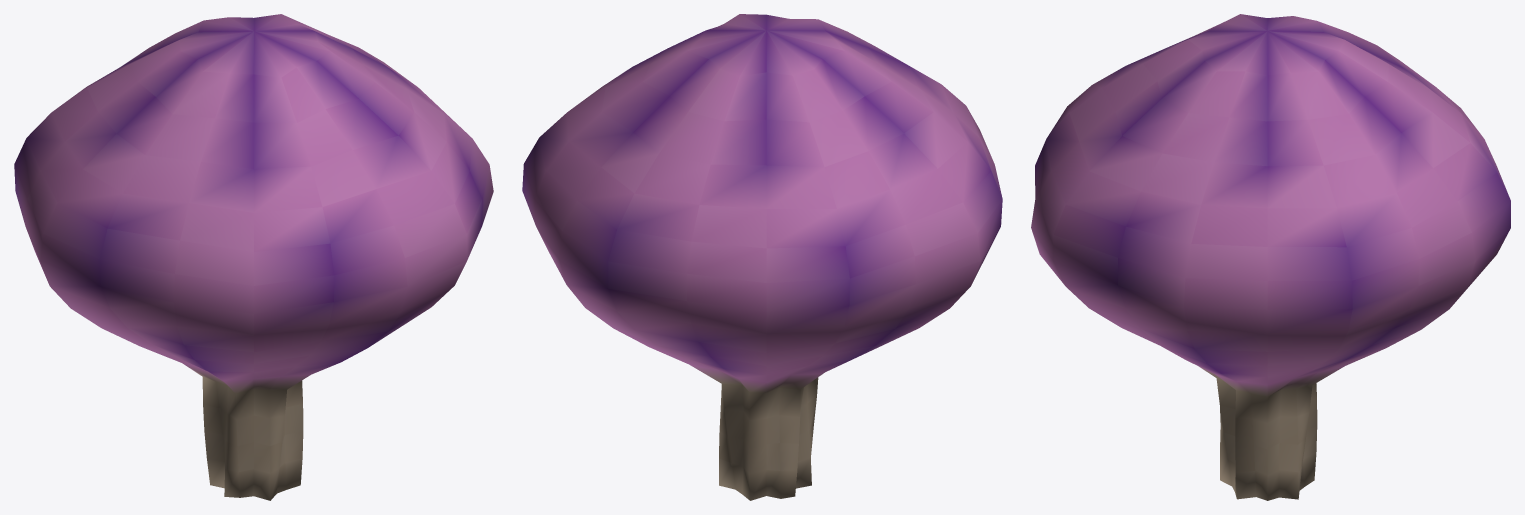
The model's file is Spore_Pod.glb.
3 renders of one model, left to right at view 1: azimuth 30°, elevation 25°; view 2: azimuth 150°, elevation 25°; view 3: azimuth 270°, elevation 25°, orthographic.
Parts seen in each view (by area): view 1: SporePod; view 2: SporePod; view 3: SporePod.
Part boxes in pixels (x1,y1,x2,y2): SporePod: (14,14,493,500); SporePod: (522,14,1002,500); SporePod: (1031,14,1510,500).
Bounding box in the file's own units: 1.2 × 1.26 × 1.19.
